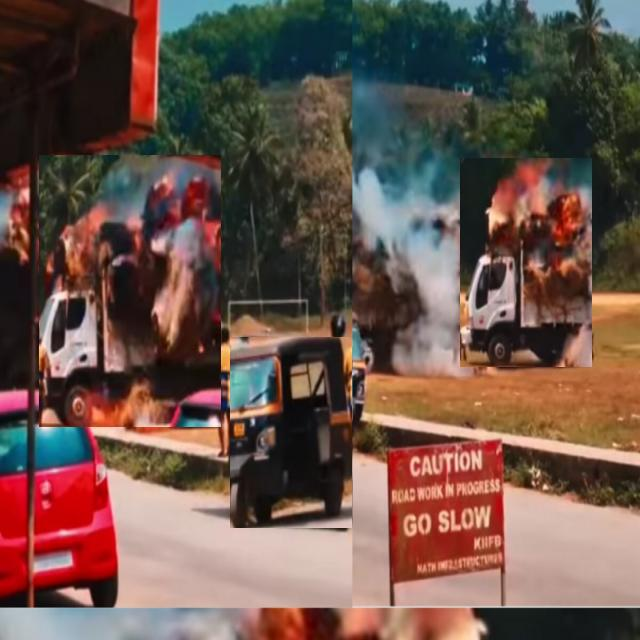accident: (39, 155, 221, 427), (460, 159, 592, 367)
autorickshaw: (230, 337, 352, 528)
